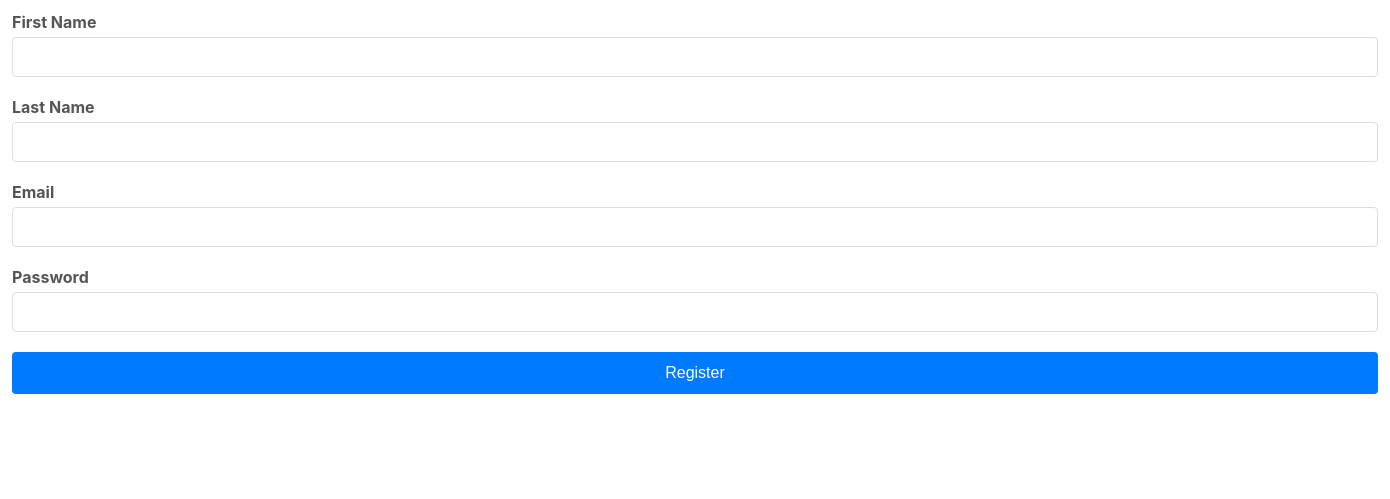
Scenario: RegisterForm › validates password requirements
The image size is (1390, 499).
Type "weak" into the password field labelled "Password" at (695,312), box [12,292,1378,332]
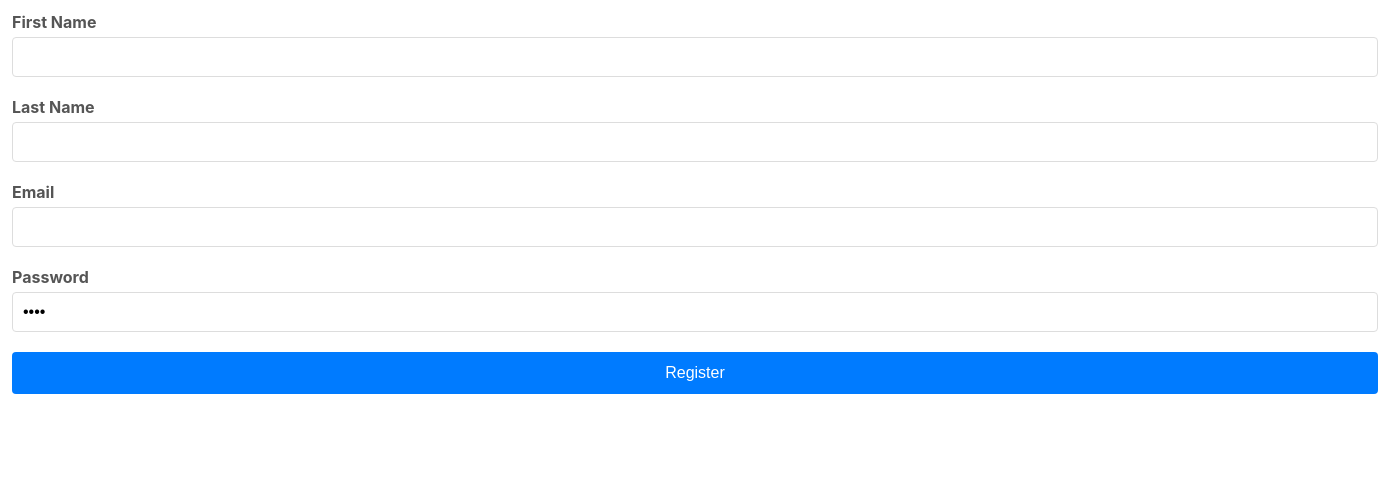
Click the button "Register" at (695,373), box [12,352,1378,394]
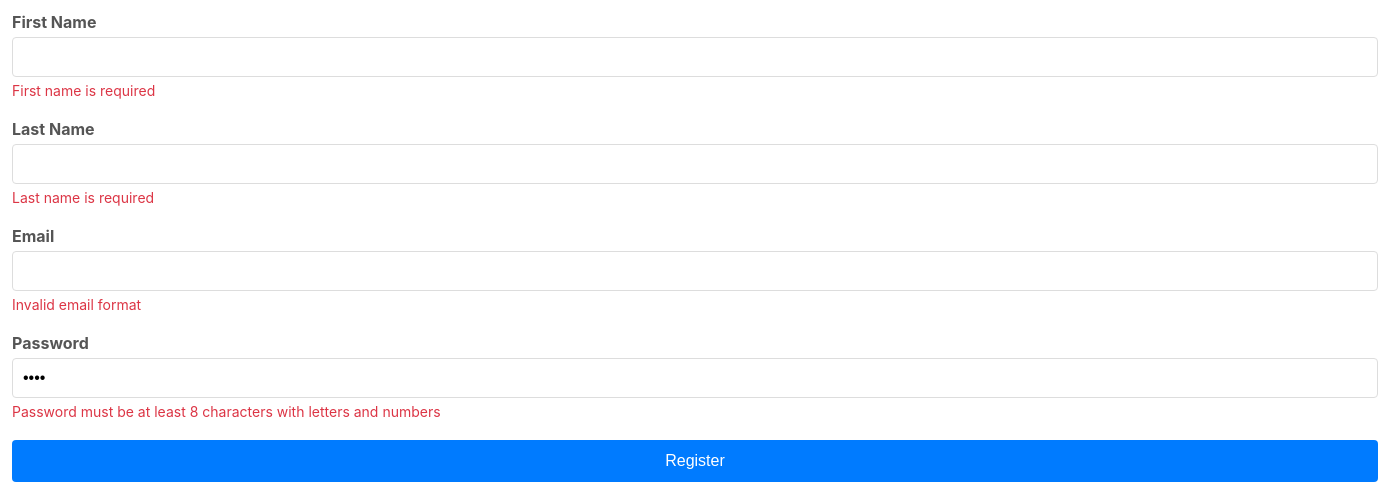
Expected: the text "Password must be at least 8 characters with letters and numbers" is shown, [12,403,441,420]
